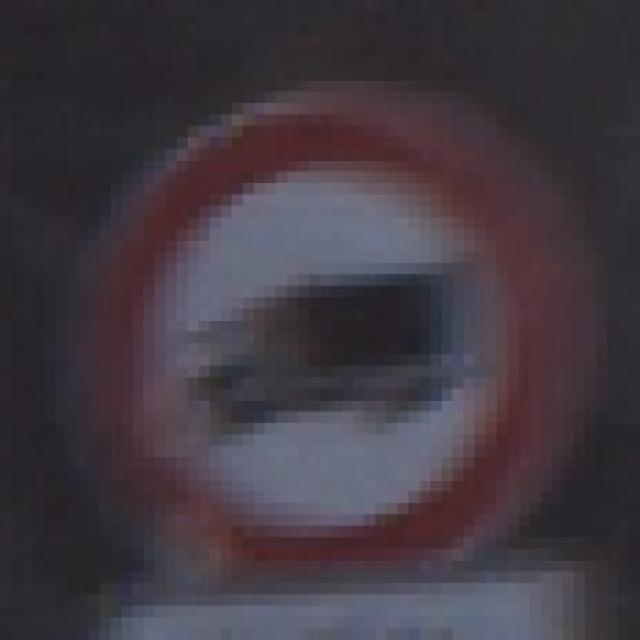Truck traffic is prohibited: (78, 69, 596, 606)
